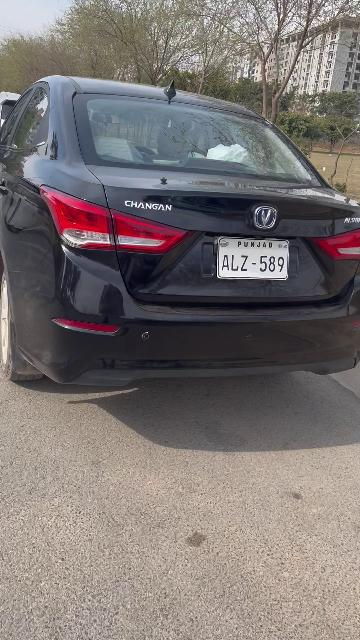plate: (218, 237, 288, 280)
